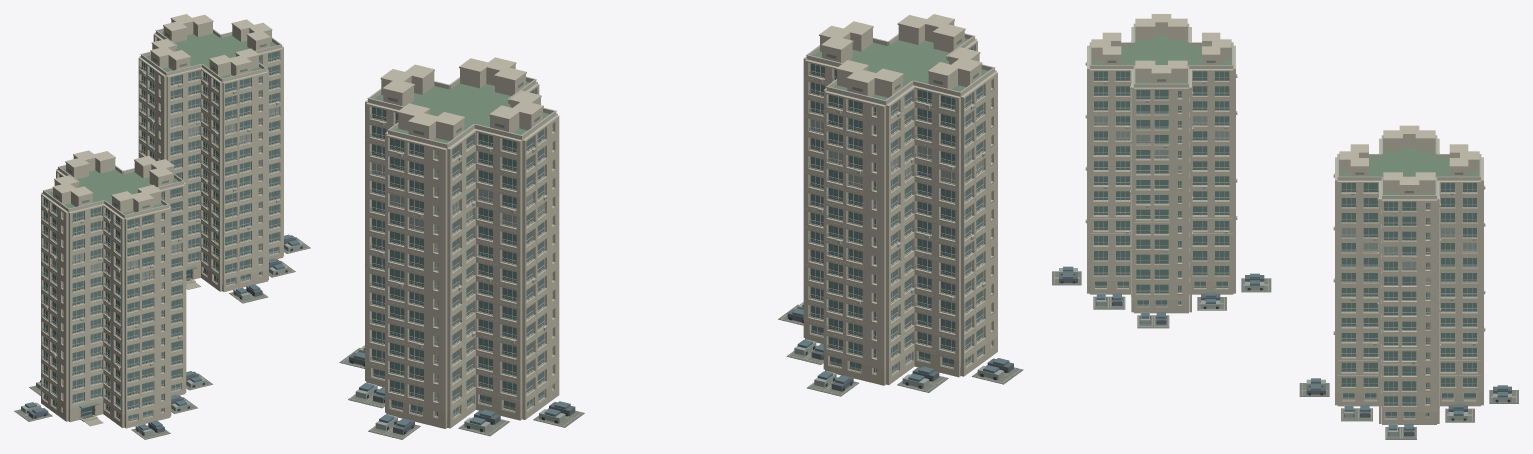
Rendered from old-3.glb.
The picture shows the model from 3 angles, left to right: view 1: azimuth 30°, elevation 25°; view 2: azimuth 150°, elevation 25°; view 3: azimuth 270°, elevation 25°; orthographic projection. The views are drawn at different scales.
Visible parts, largest first — view 1: korean-facade-parts-cac6b4, korean-facade-surface-718b87, korean-facade-parts-d1d0bf, korean-facade-parts-8f9b97, old-3, korean-facade-parts-c5c0ae, korean-facade-surface-9eaaa4, korean-facade-parts-858b82, korean-facade-parts-b8bcb2, korean-facade-parts-a5b1ab, korean-facade-parts-6c858b, korean-facade-parts-6b787e (+2 smaller); view 2: korean-facade-parts-cac6b4, korean-facade-surface-718b87, korean-facade-parts-d1d0bf, korean-facade-parts-8f9b97, old-3, korean-facade-parts-c5c0ae, korean-facade-parts-858b82, korean-facade-surface-9eaaa4, korean-facade-parts-6c858b, korean-facade-parts-a5b1ab, korean-facade-parts-6b787e, korean-facade-parts-b8bcb2 (+3 smaller); view 3: korean-facade-parts-cac6b4, korean-facade-surface-718b87, korean-facade-parts-d1d0bf, korean-facade-parts-8f9b97, old-3, korean-facade-parts-c5c0ae, korean-facade-parts-858b82, korean-facade-surface-9eaaa4, korean-facade-parts-6c858b, korean-facade-parts-b8bcb2, korean-facade-parts-a5b1ab, korean-facade-surface-cac6b4 (+4 smaller).
Part boxes in pixels (x1,y1,x2,y2): korean-facade-parts-cac6b4: [41, 14, 283, 416]; korean-facade-surface-718b87: [43, 38, 278, 418]; korean-facade-parts-d1d0bf: [43, 38, 279, 409]; korean-facade-parts-8f9b97: [42, 57, 279, 410]; old-3: [48, 32, 276, 284]; korean-facade-parts-c5c0ae: [41, 244, 283, 428]; korean-facade-surface-9eaaa4: [43, 103, 278, 288]; korean-facade-parts-858b82: [14, 237, 310, 439]; korean-facade-parts-b8bcb2: [42, 28, 281, 215]; korean-facade-parts-a5b1ab: [21, 240, 303, 436]; korean-facade-parts-6c858b: [25, 234, 299, 430]; korean-facade-parts-6b787e: [28, 235, 296, 432]; korean-facade-parts-cac6b4: [365, 14, 997, 412]; korean-facade-surface-718b87: [372, 46, 982, 413]; korean-facade-parts-d1d0bf: [371, 46, 991, 401]; korean-facade-parts-8f9b97: [370, 72, 984, 402]; old-3: [374, 38, 994, 418]; korean-facade-parts-c5c0ae: [365, 321, 997, 428]; korean-facade-parts-858b82: [339, 304, 1023, 439]; korean-facade-surface-9eaaa4: [372, 119, 982, 251]; korean-facade-parts-6c858b: [353, 304, 1009, 427]; korean-facade-parts-a5b1ab: [355, 302, 1004, 431]; korean-facade-parts-6b787e: [349, 309, 1013, 434]; korean-facade-parts-b8bcb2: [367, 33, 995, 144]; korean-facade-parts-cac6b4: [1087, 14, 1483, 411]; korean-facade-surface-718b87: [1094, 71, 1476, 417]; korean-facade-parts-d1d0bf: [1093, 71, 1477, 405]; korean-facade-parts-8f9b97: [1094, 79, 1476, 405]; old-3: [1091, 27, 1479, 195]; korean-facade-parts-c5c0ae: [1087, 280, 1483, 424]; korean-facade-parts-858b82: [1052, 271, 1518, 439]; korean-facade-surface-9eaaa4: [1094, 116, 1476, 284]; korean-facade-parts-6c858b: [1063, 266, 1507, 430]; korean-facade-parts-b8bcb2: [1089, 23, 1481, 196]; korean-facade-parts-a5b1ab: [1059, 268, 1511, 436]; korean-facade-surface-cac6b4: [1115, 71, 1455, 404].
Size of the model in its own units: 87.8 by 47.75 by 84.8.
